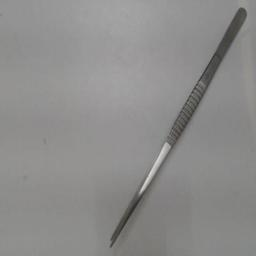DeBakey Dissector: (102, 6, 252, 254)
